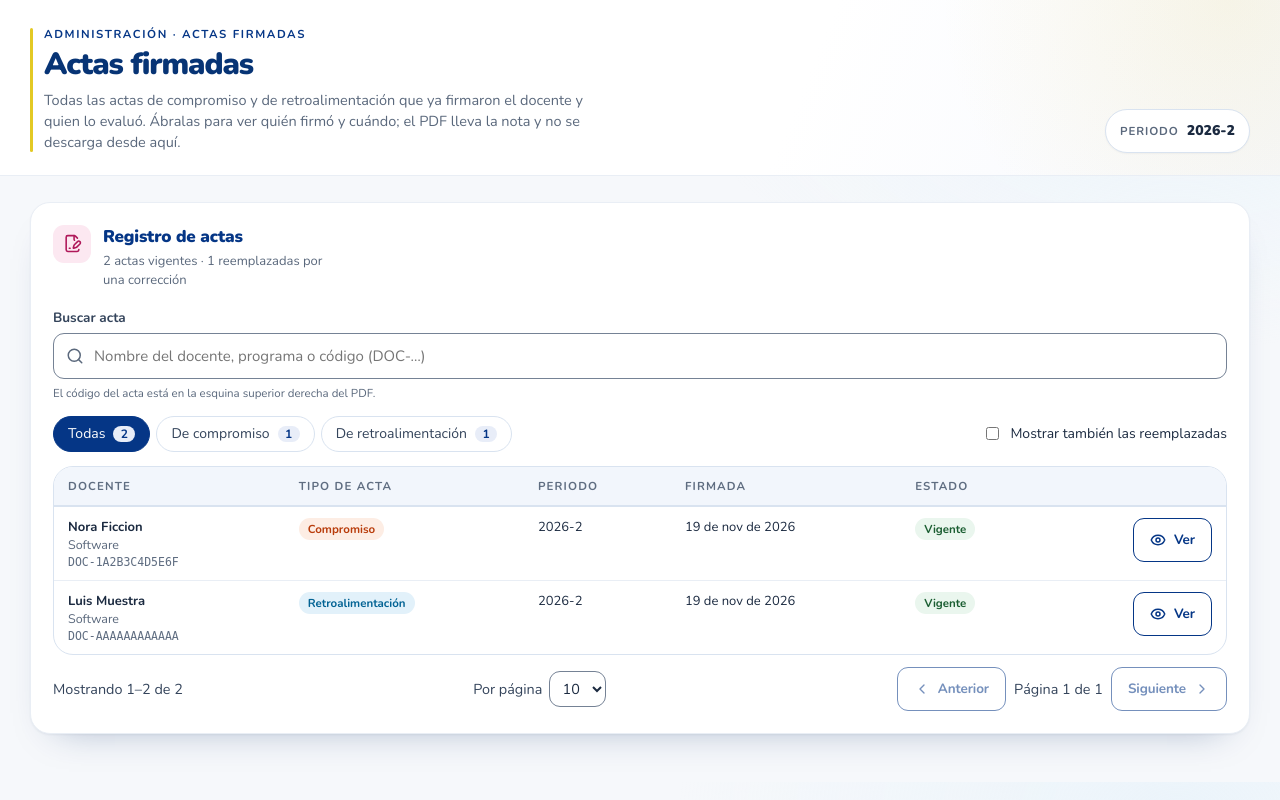
Test: BuscarActa › la administración ve el registro y quién firmó, pero no descarga el PDF (lleva la nota)
Click the button with aria-label "Ver el acta de Nora Ficcion": x=1172, y=540 [1133,518,1212,562]
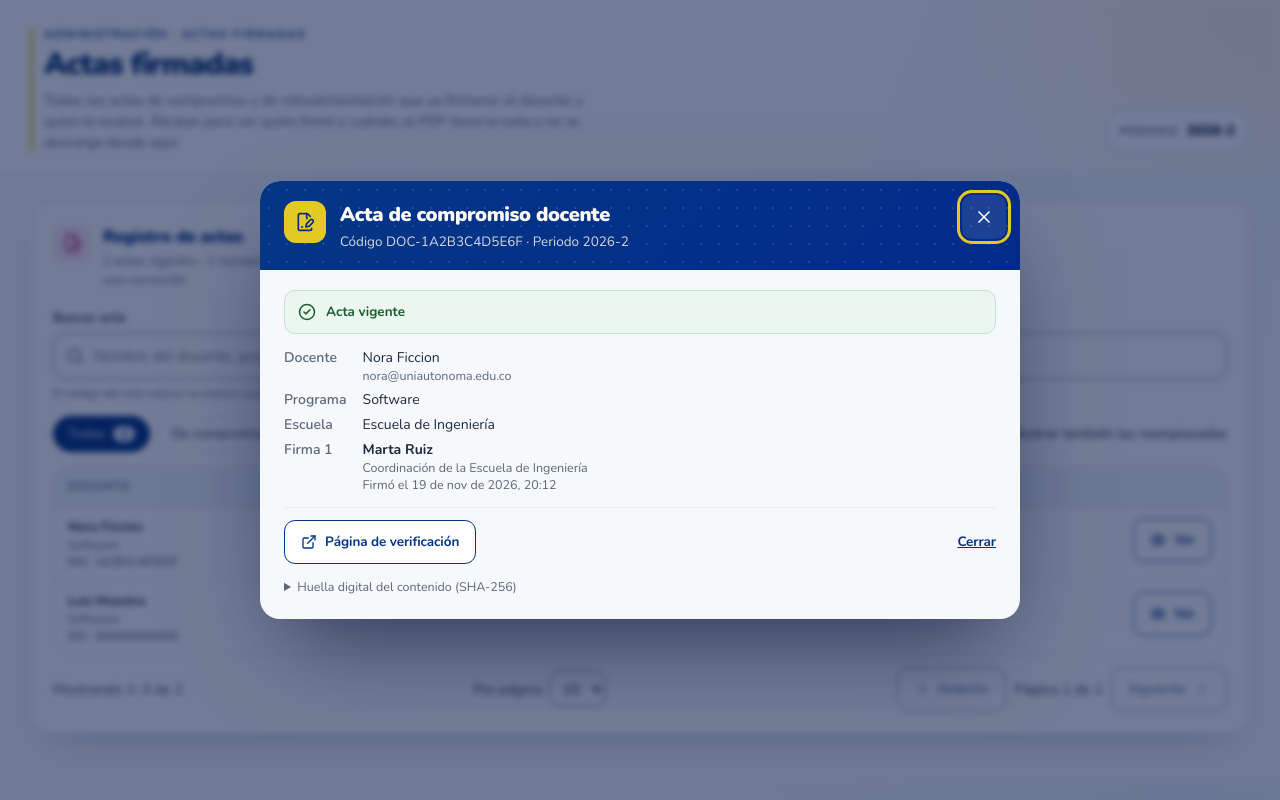
Expected: the text "Marta Ruiz" is shown, [362,440,433,459]
